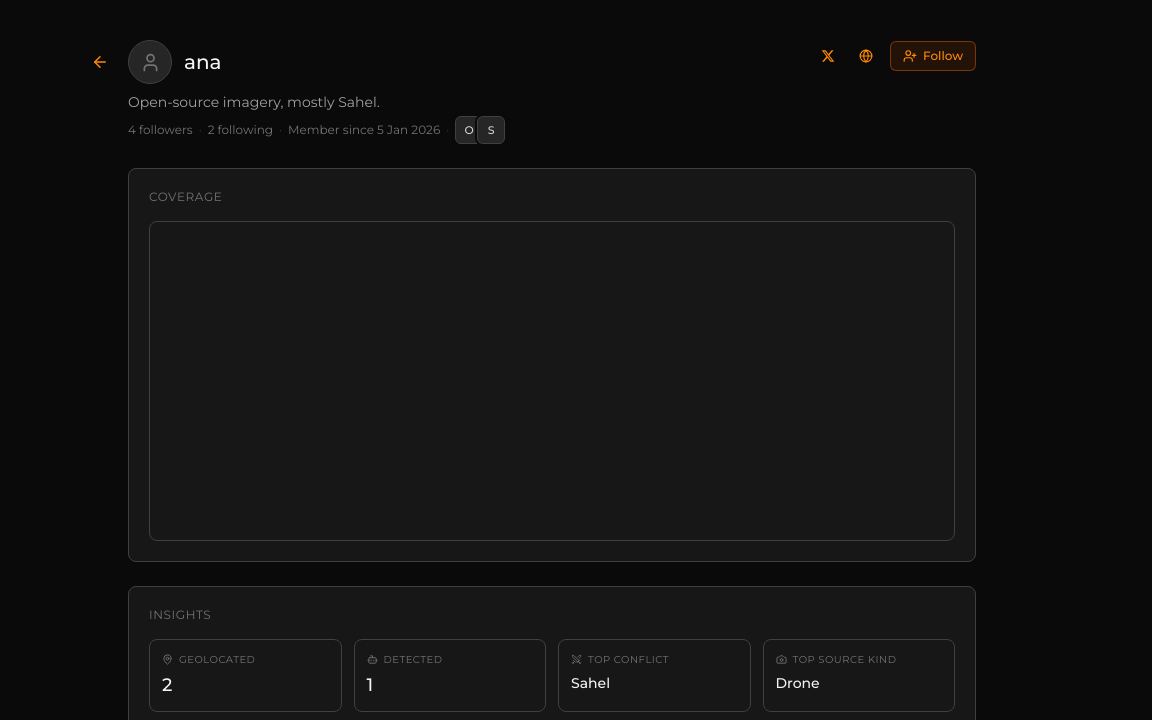
Test: public profile order › moves the follower count with Follow and Unfollow before the answer lands
Check: the heading "Insights" is shown, box [149,607,211,622]
Check: the text "4 followers" is shown, box [128,122,193,138]
Click the button "Follow".
click(933, 56)  # box [890,41,976,71]
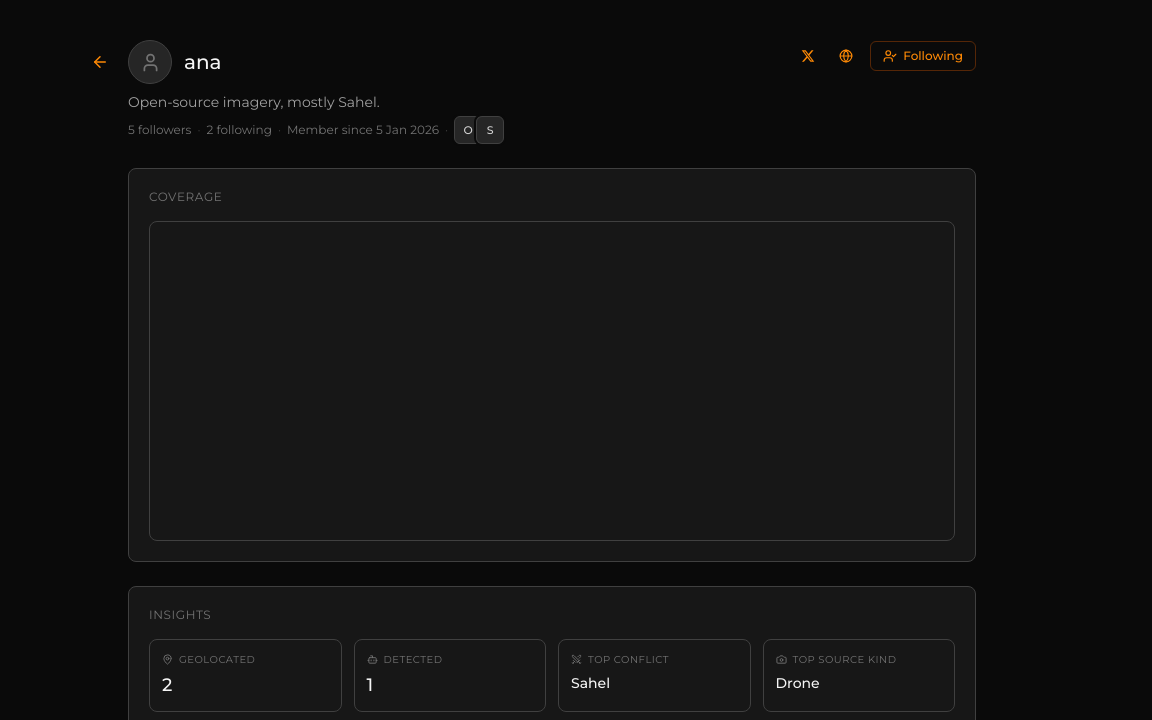
Check: the text "5 followers" is shown, box [128,122,192,138]
Click the button "Following".
click(923, 56)  # box [870,41,976,71]
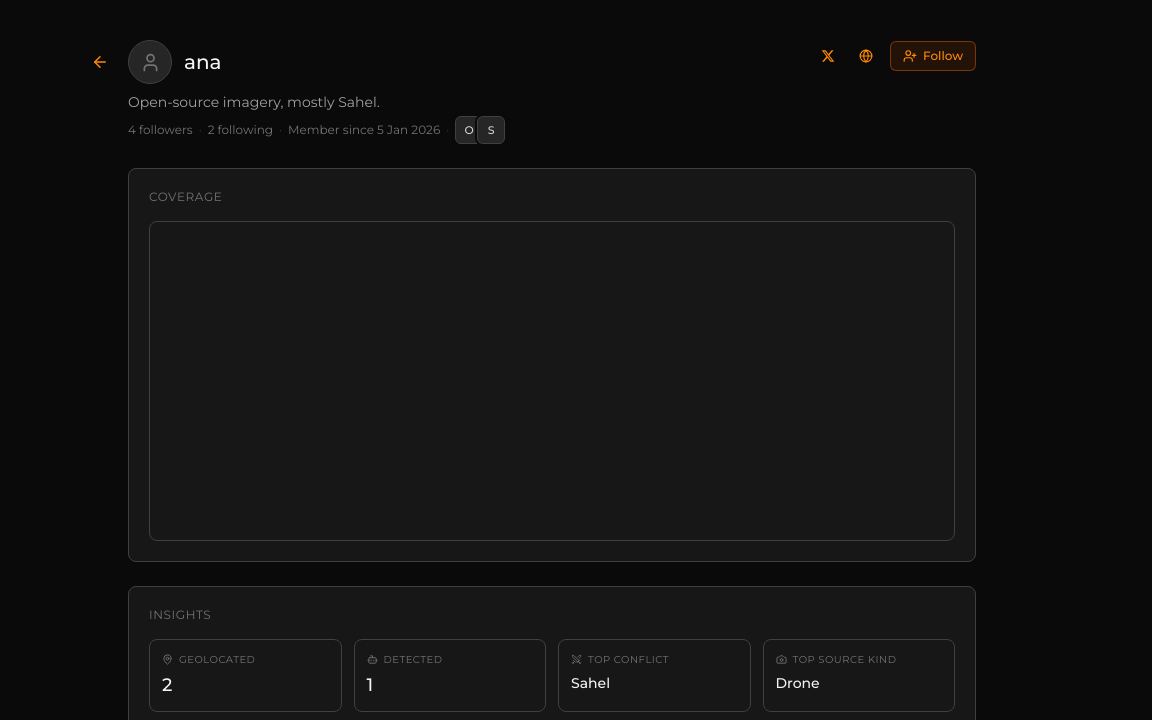
Check: the text "4 followers" is shown, box [128,122,193,138]
